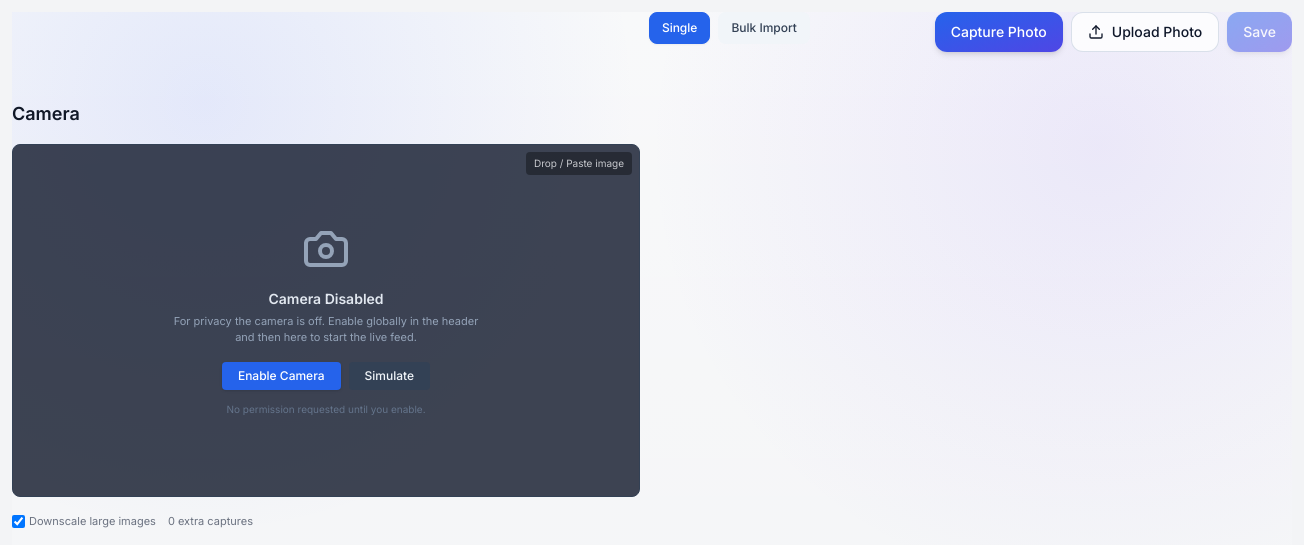
Test: EnrollPage bulk mode UI › switches to bulk import view
What coordinates should you click on to do the following:
click the button "Bulk Import"
I would click on:
 (764, 28)
Its box is [718,12,810,44].
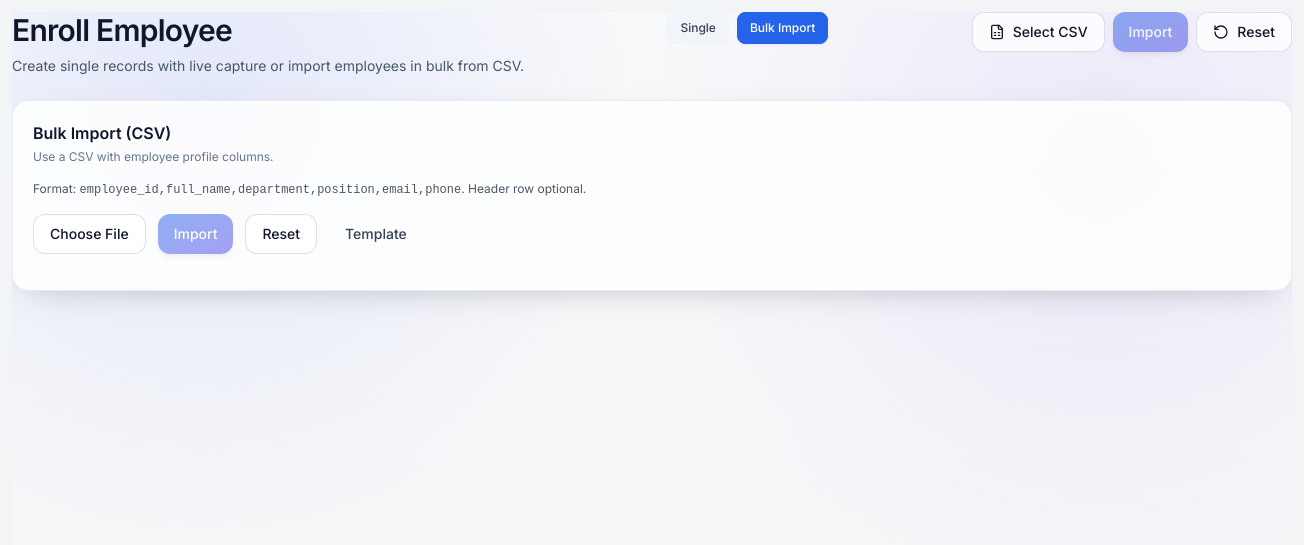
Now the heading "Bulk Import (CSV)" is shown, box [33,123,171,143]
Now the button "Choose File" is shown, box [33,214,146,254]
